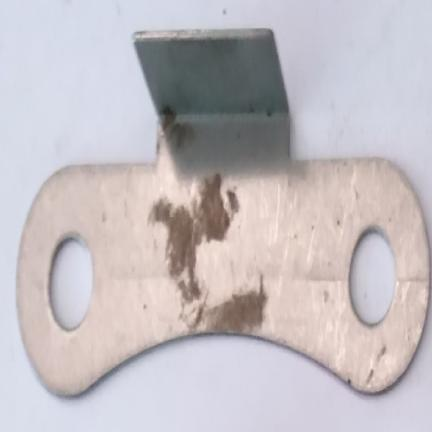besi_tidak_karat: (240, 162, 428, 384), (21, 172, 147, 393), (134, 28, 289, 173), (134, 29, 288, 116)
karat: (149, 174, 230, 302), (198, 275, 267, 332)
